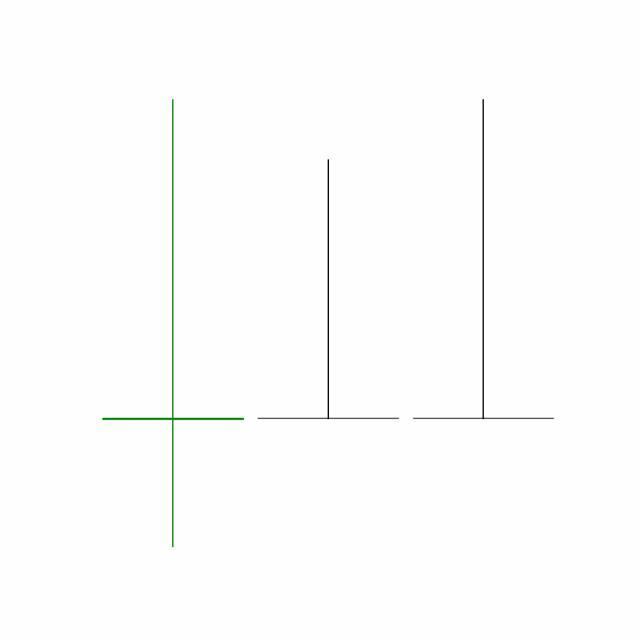Gravestone Doji: (406, 96, 562, 424)
